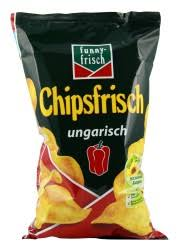chipsfrisch: (9, 11, 168, 240)
